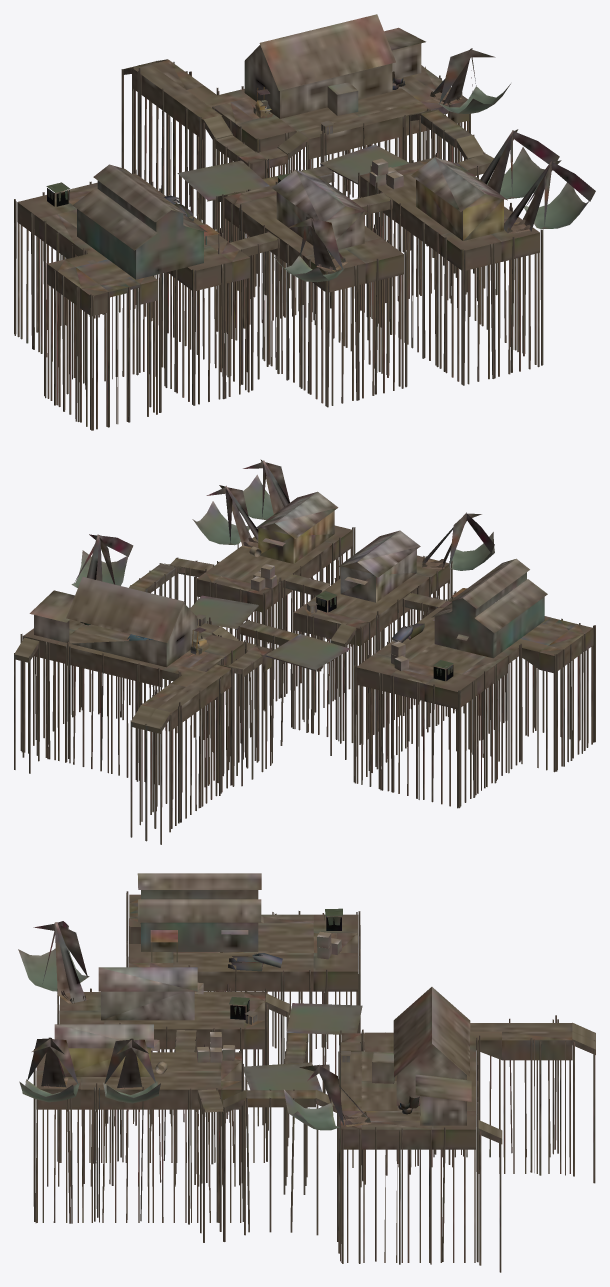
Rendered from fishing_village_a.glb.
3 views of the same model, one above another, from view 1: azimuth 30°, elevation 25°; view 2: azimuth 150°, elevation 25°; view 3: azimuth 270°, elevation 25° (orthographic). The views are drawn at different scales.
Parts seen in each view (by area): view 1: fishing_village_a_hlod; view 2: fishing_village_a_hlod; view 3: fishing_village_a_hlod.
Part boxes in pixels (x1,y1,x2,y2): fishing_village_a_hlod: (14,14,595,430); fishing_village_a_hlod: (14,459,595,844); fishing_village_a_hlod: (18,873,595,1272).
Size of the model in its own units: 74.61 by 29.56 by 74.54.
1 material, 1 textured.
